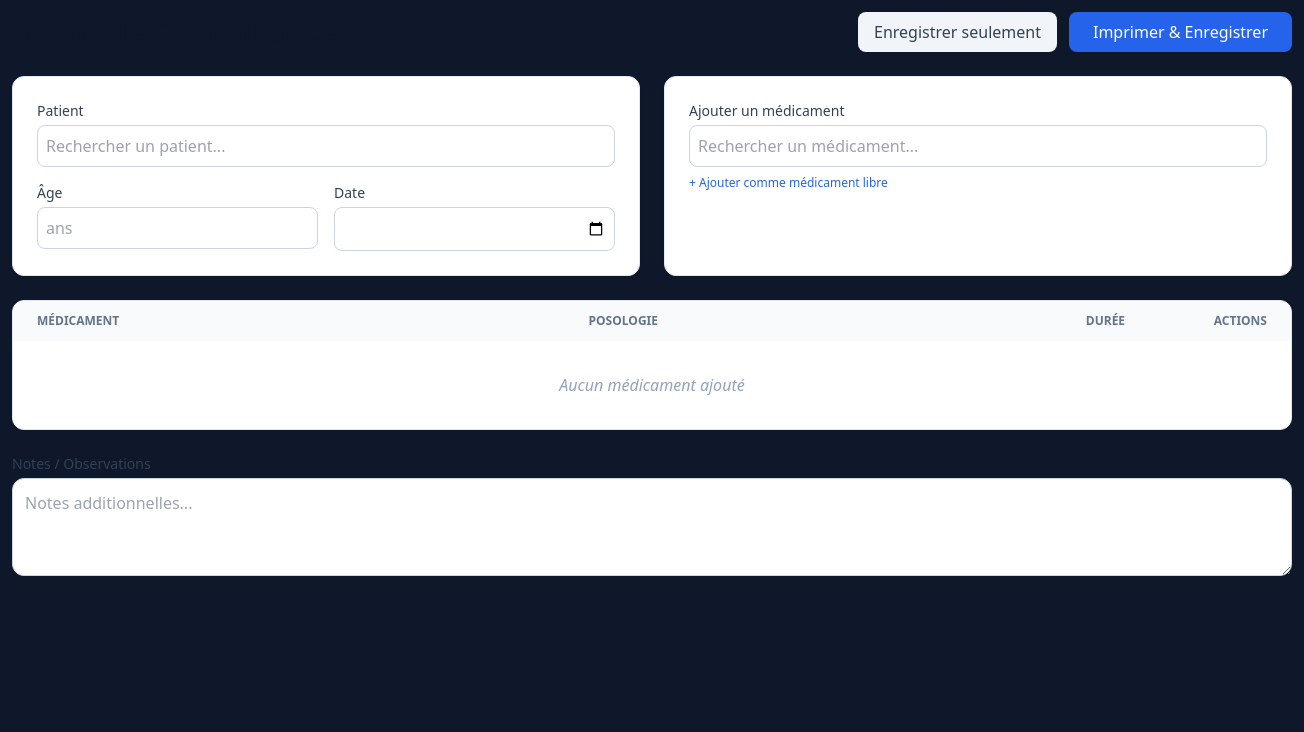
Test: Ordonnance Page › adds a custom drug to the list
Click the button "+ Ajouter comme médicament libre": x=788, y=183 x1=689 y1=175 x2=888 y2=191
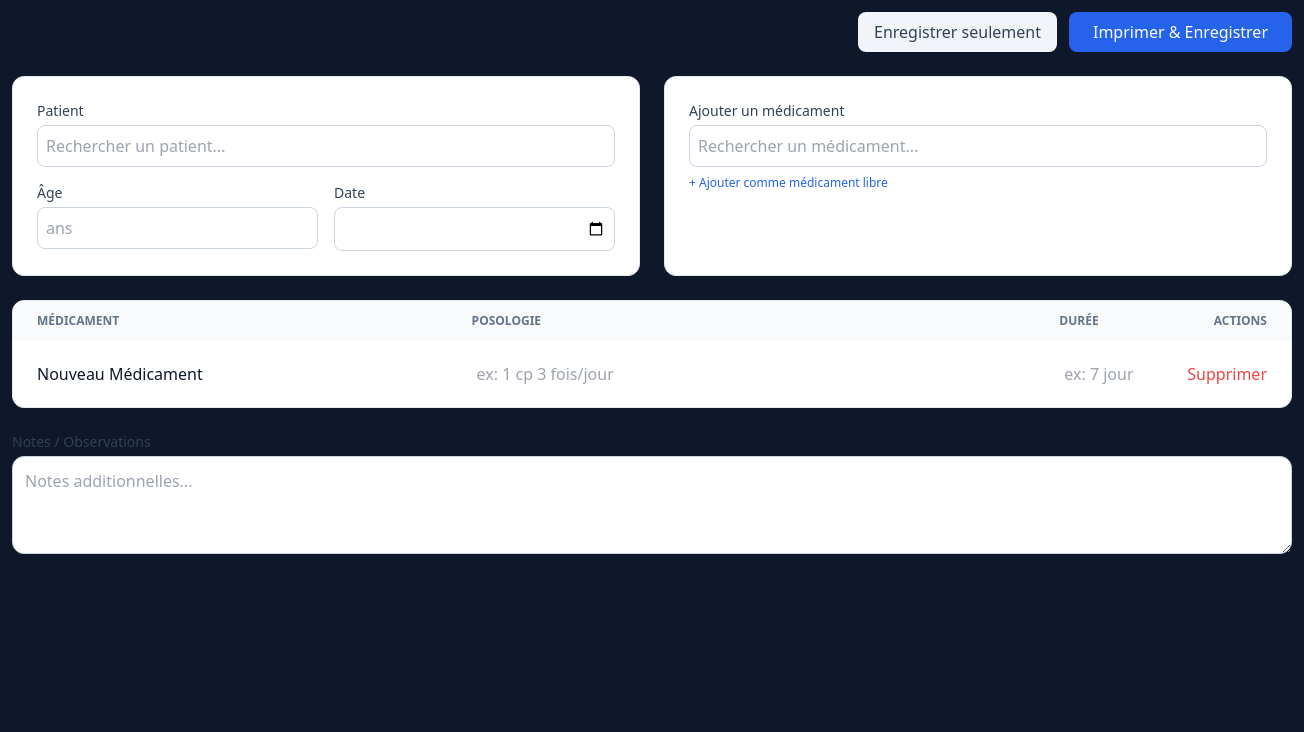
Check: the text "Nouveau Médicament" is shown, box x1=37 y1=363 x2=203 y2=385
